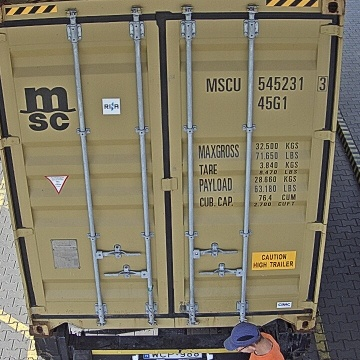serial_id: (206, 76, 327, 91)
